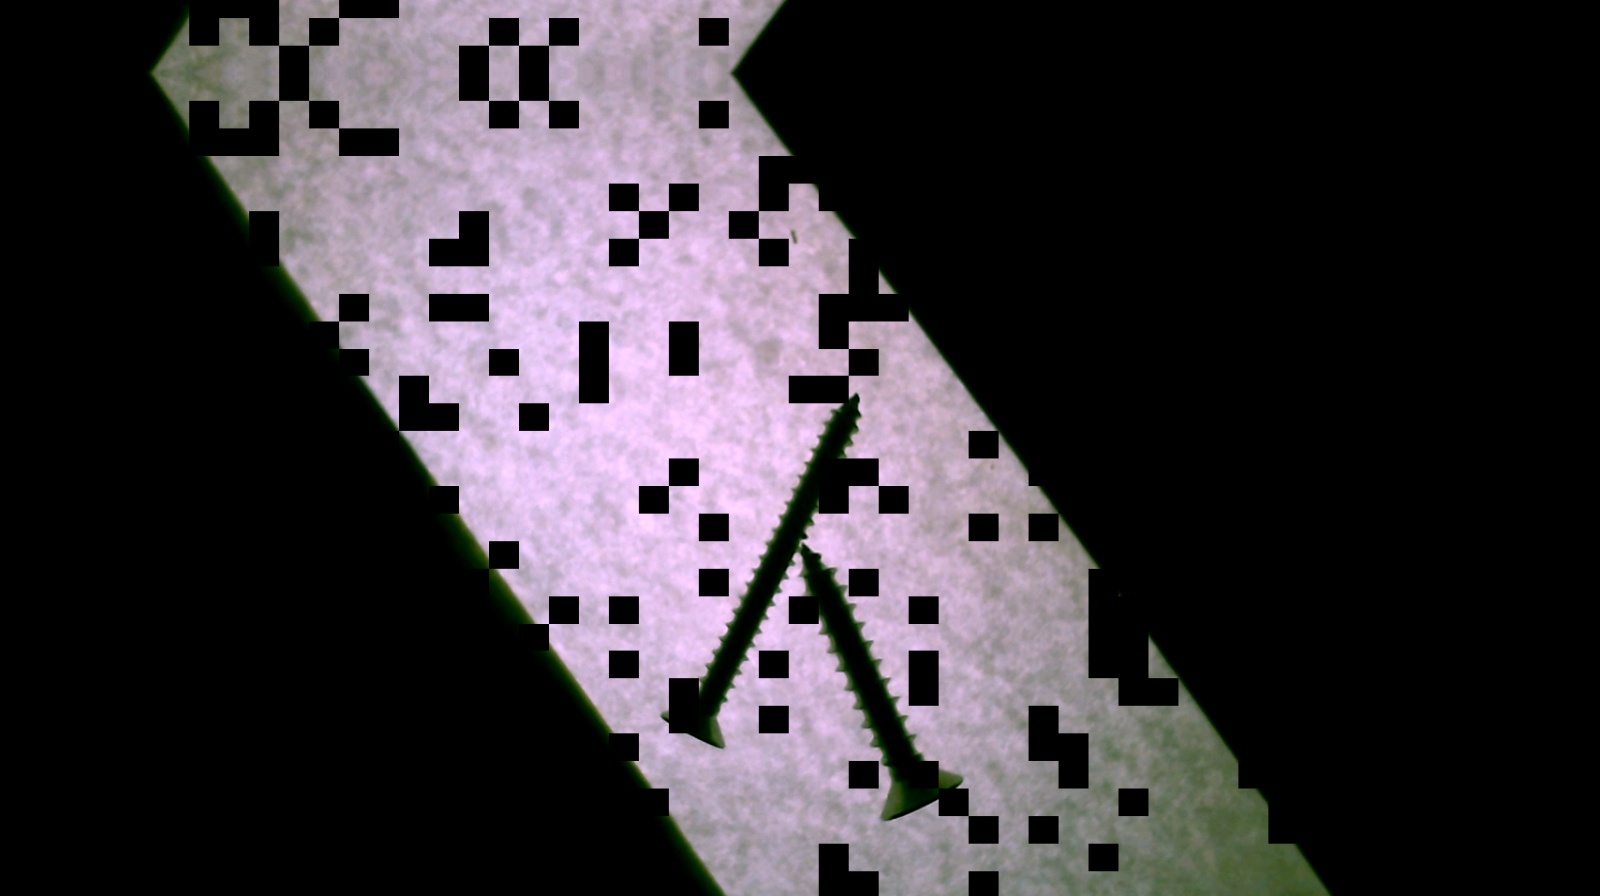S001: (795, 547, 964, 825)
S002: (655, 392, 865, 755)
